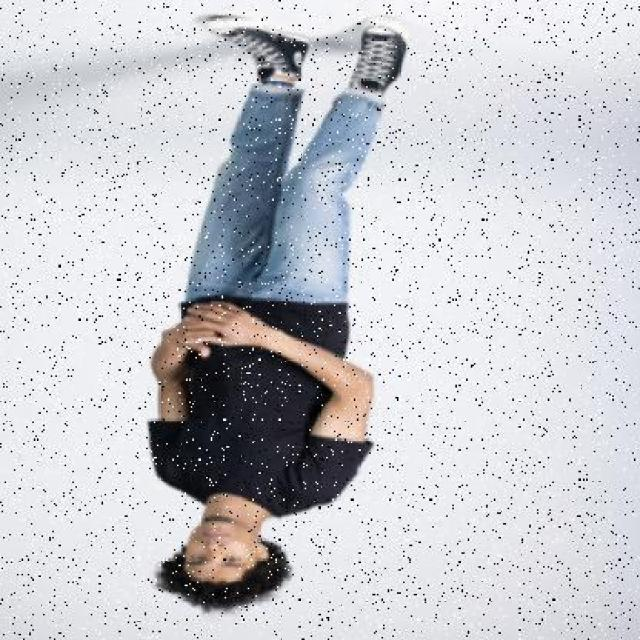person: (148, 13, 414, 612)
